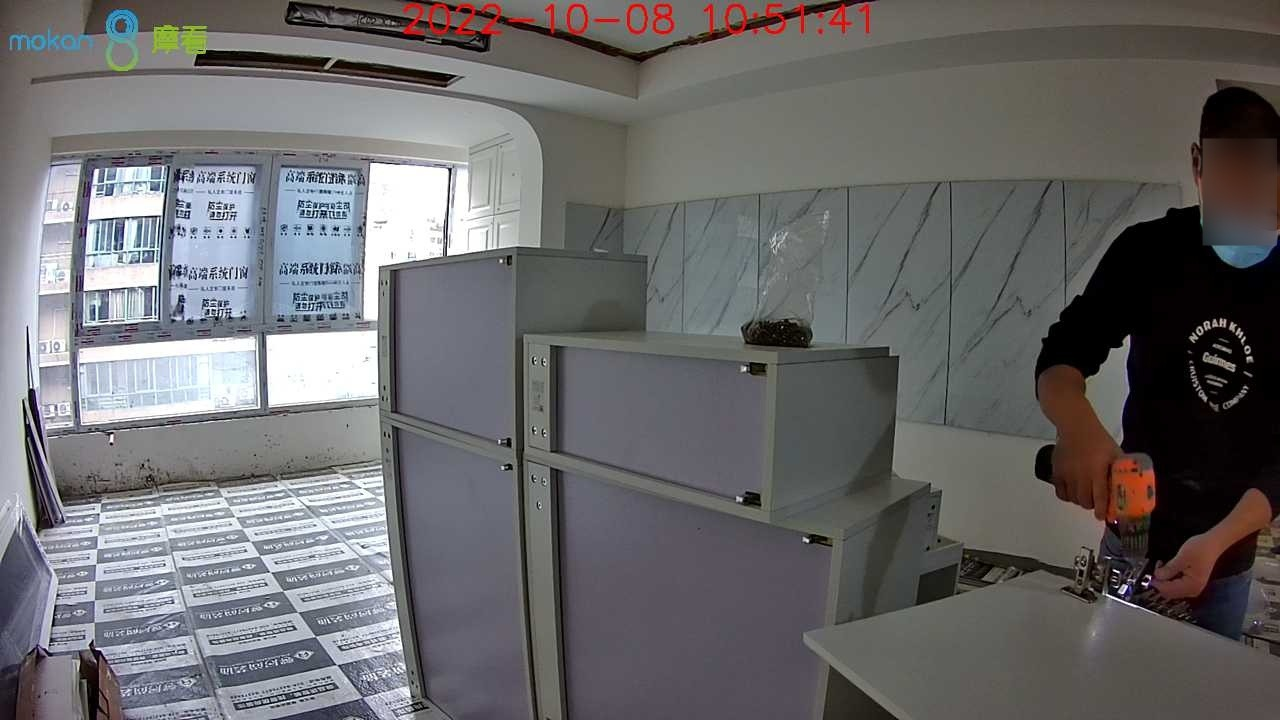people: (1035, 87, 1280, 640)
window: (51, 156, 455, 416)
